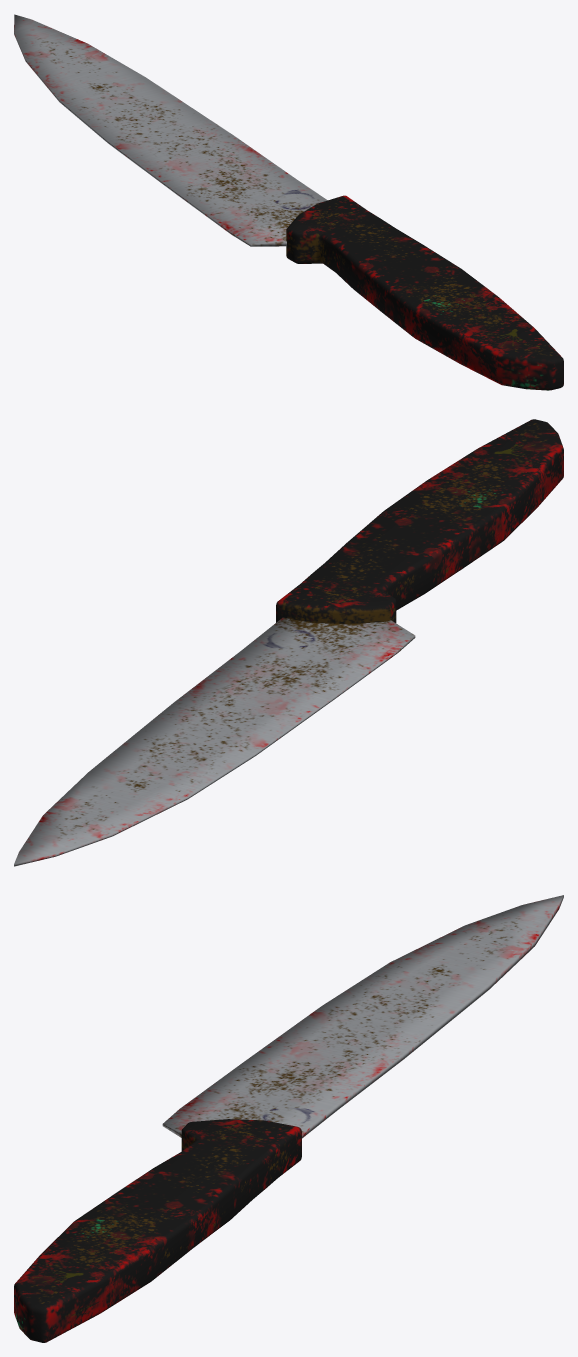
3 renders of one model, top to bottom at view 1: azimuth 30°, elevation 25°; view 2: azimuth 150°, elevation 25°; view 3: azimuth 330°, elevation 25°, orthographic. The views are drawn at different scales.
Parts seen in each view (by area): view 1: Lamina1_low; view 2: Lamina1_low; view 3: Lamina1_low.
Boxes of the visible parts, bbox=[...] form: Lamina1_low: bbox=[14, 14, 563, 390]; Lamina1_low: bbox=[14, 419, 563, 866]; Lamina1_low: bbox=[14, 895, 563, 1342].
Size of the model in its own units: 0.0615 by 0.0148 by 0.4363.
Materials: 1 (1 with a texture image).
